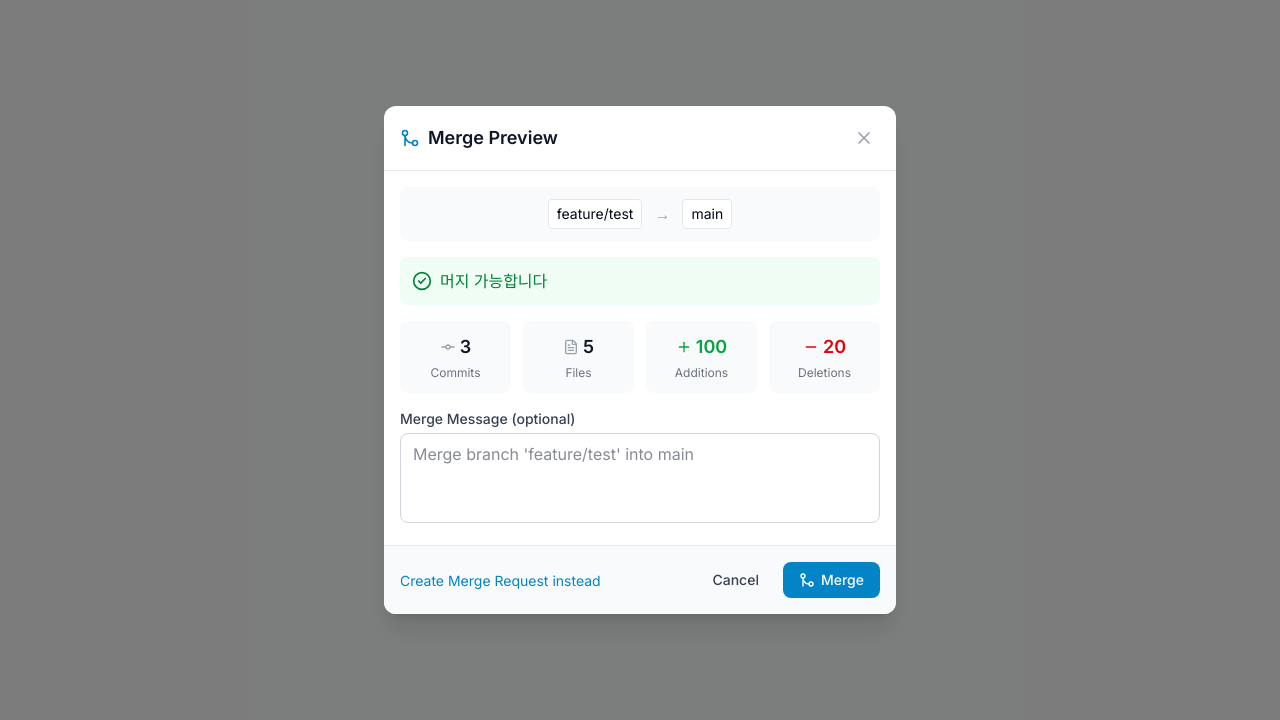
Test case: MergePreviewPanel › toggles MR form when "Create Merge Request instead" is clicked
The image size is (1280, 720).
Click the button "Create Merge Request instead" at [500, 581], box [400, 571, 601, 591]
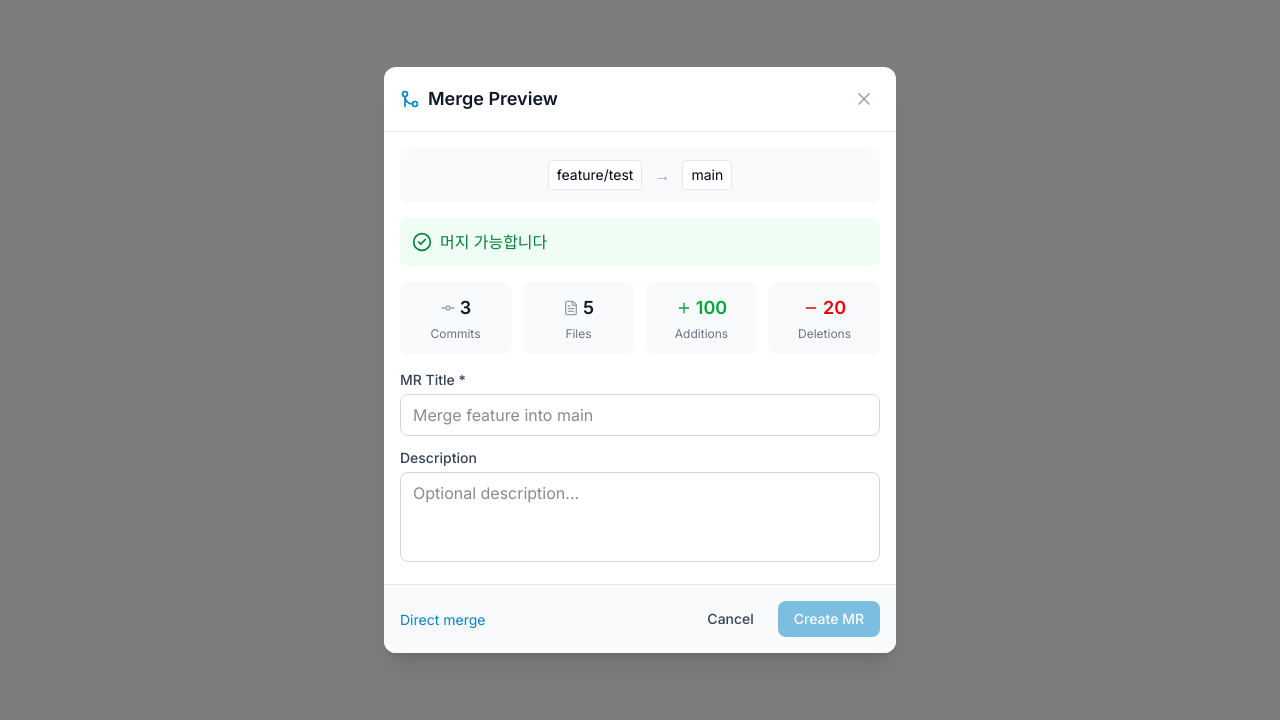
Expected: the text "MR Title *" is shown, [400, 371, 466, 388]
Expected: the text "Description" is shown, [400, 449, 477, 466]
Expected: the button "Create MR" is shown, [778, 601, 880, 637]
// Toggle back
Click the button "Direct merge" at [443, 620], box [400, 610, 485, 630]
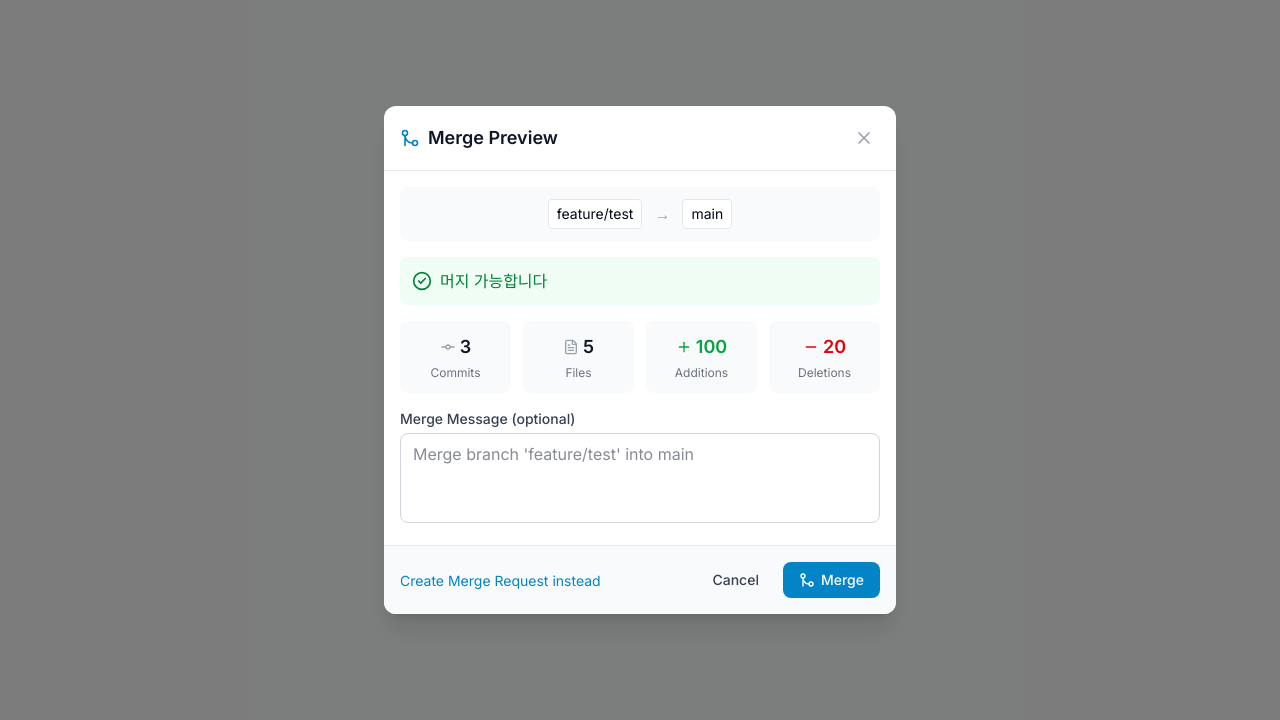
Expected: the text "MR Title *" is gone
